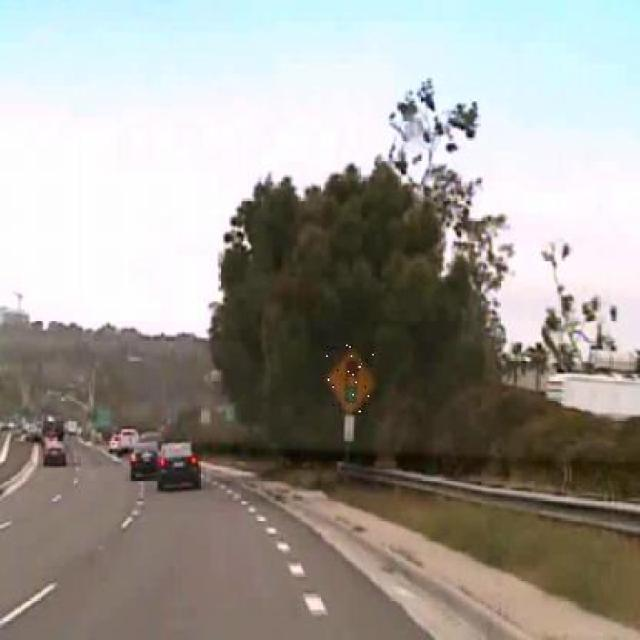signalAhead: (326, 344, 376, 414)
